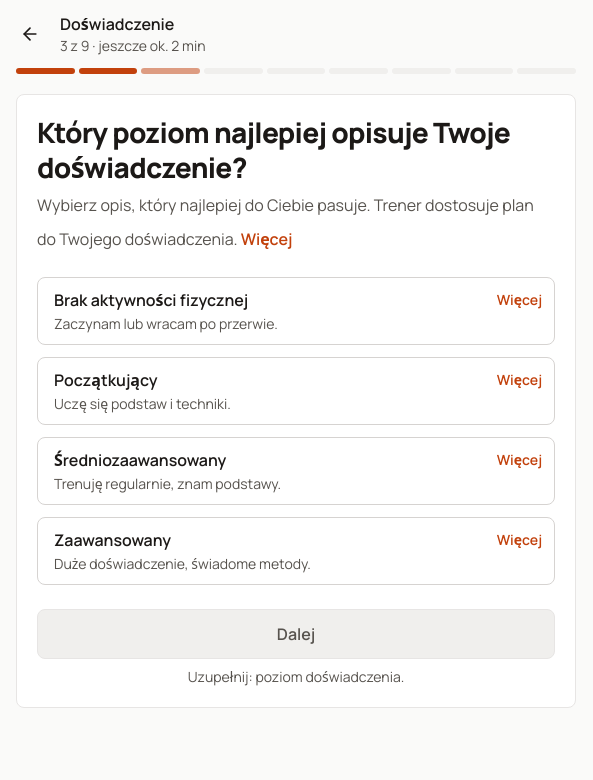
Test: steps › level screen: one-line descriptions, full text only behind 'Więcej'
expect the text "Uczę się podstaw i techniki." is shown: met, box [54,394,231,413]
Click the button "Więcej" in the row of "Uczę się podstaw i techniki." at (519, 380), box [485,358,554,402]
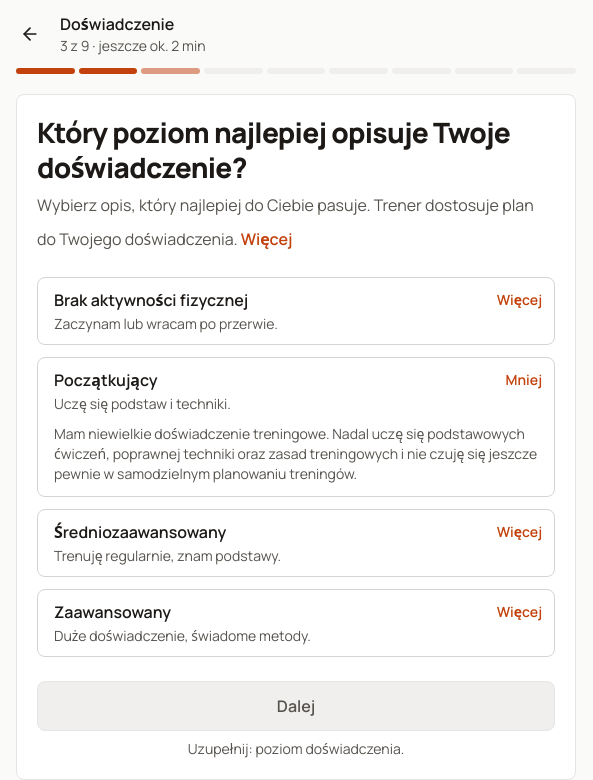
expect the radio button labelled "Początkujący Uczę się podstaw i techniki." is not checked: met, box [54,369,231,413]
expect the text "nie czuję się jeszcze pewnie w samodzielnym planowaniu" is shown: met, box [54,424,537,483]
expect the button "Mniej" is expanded: met, box [494,358,554,402]
